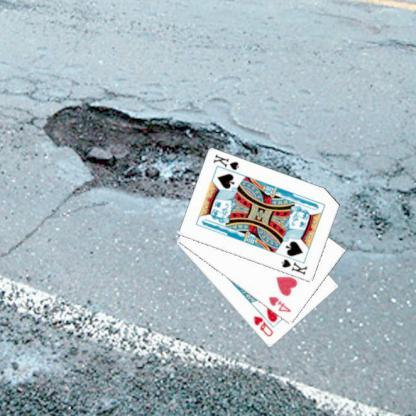4H: (268, 294, 294, 314)
KS: (212, 151, 242, 176), (280, 256, 310, 276)
QH: (252, 314, 276, 338)
